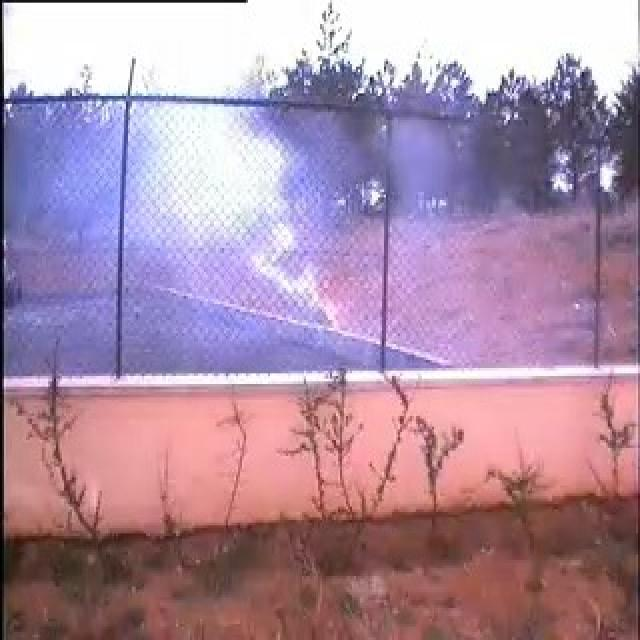smoke: (65, 101, 369, 367)
